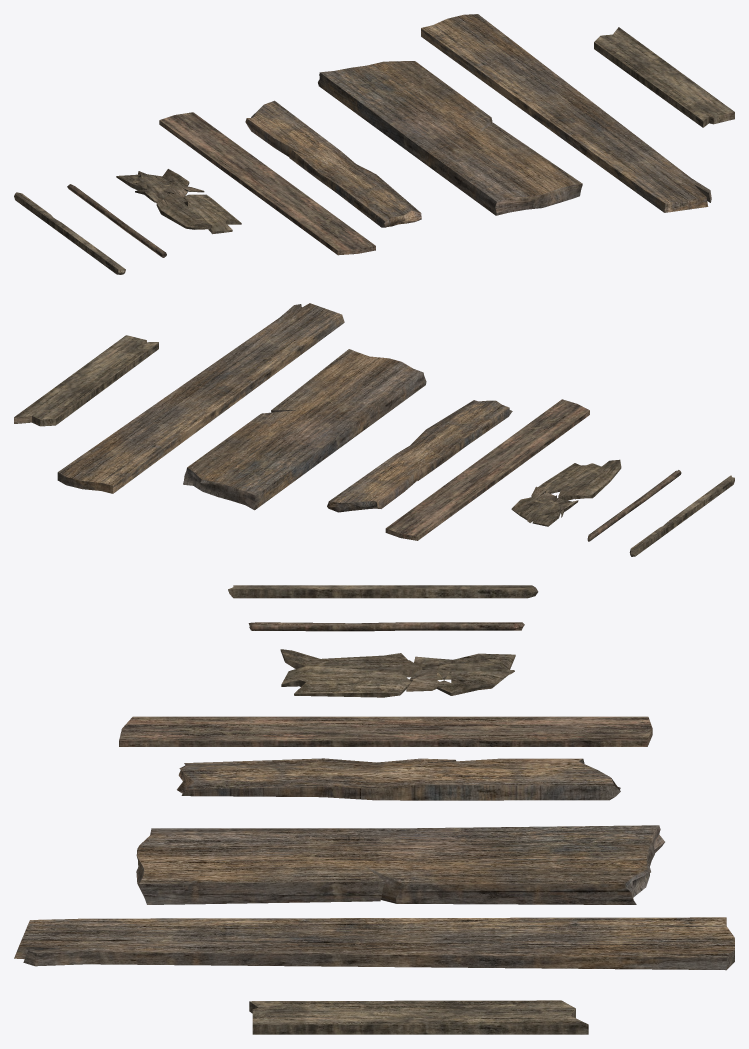
The model's file is planks.glb.
The picture shows the model from 3 angles, top to bottom: view 1: azimuth 30°, elevation 25°; view 2: azimuth 150°, elevation 25°; view 3: azimuth 270°, elevation 25°; orthographic projection. The views are drawn at different scales.
Visible parts, largest first — view 1: plank_03, plank_02, plank_05, plank_04, plank_01, plank_06_Broken, post_02, post_01; view 2: plank_03, plank_02, plank_05, plank_04, plank_01, plank_06_Broken, post_02, post_01; view 3: plank_03, plank_02, plank_04, plank_05, plank_01, plank_06_Broken, post_02, post_01.
Boxes of the visible parts, x1,y1,x2,y2 form: plank_03: (318,61,582,215); plank_02: (421,14,711,212); plank_05: (159,112,375,255); plank_04: (245,100,421,227); plank_01: (594,27,734,127); plank_06_Broken: (116,169,241,234); post_02: (14,192,125,274); post_01: (67,184,166,257); plank_03: (183,349,426,510); plank_02: (57,303,344,493); plank_05: (385,399,589,540); plank_04: (327,400,512,512); plank_01: (14,335,158,426); plank_06_Broken: (511,459,621,526); post_02: (629,475,734,556); post_01: (587,470,681,541); plank_03: (136,825,664,904); plank_02: (14,917,734,970); plank_04: (177,758,620,800); plank_05: (119,716,652,746); plank_01: (249,1000,588,1034); plank_06_Broken: (280,649,515,697); post_02: (228,585,538,598); post_01: (248,622,524,631).
Bounding box in the file's own units: 0.1275 × 0.00354 × 0.0883.
Materials: 2 (2 with a texture image).
